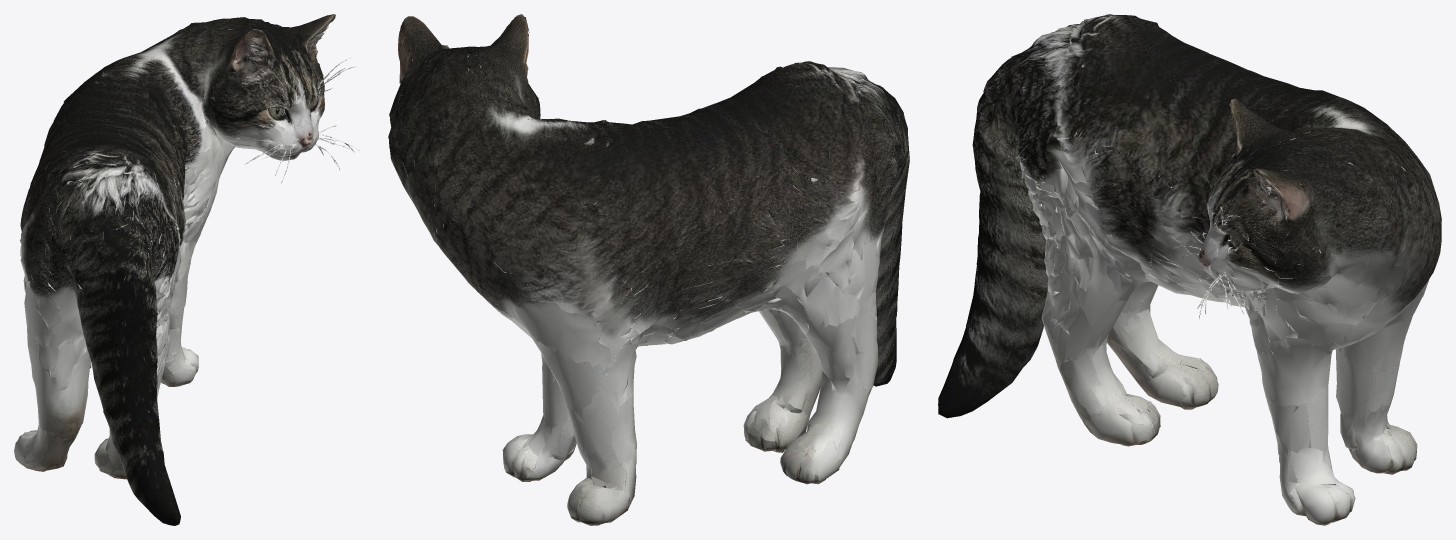
File: bavette.glb
The picture shows the model from 3 angles, left to right: view 1: azimuth 30°, elevation 25°; view 2: azimuth 150°, elevation 25°; view 3: azimuth 270°, elevation 25°; orthographic projection. The views are drawn at different scales.
Visible parts, largest first — view 1: Mesh_0; view 2: Mesh_0; view 3: Mesh_0.
Part boxes in pixels (x1=…): Mesh_0: x1=14, y1=14, x2=359, y2=525; Mesh_0: x1=388, y1=14, x2=909, y2=525; Mesh_0: x1=938, y1=14, x2=1441, y2=525.
Bounding box in the file's own units: 0.67 × 0.65 × 0.6654.
1 material, 1 textured.
